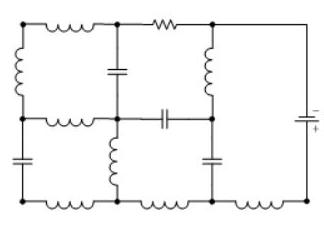inductor: (38, 108, 101, 139), (195, 42, 223, 104), (226, 189, 290, 215), (100, 128, 125, 186), (38, 14, 102, 36), (130, 192, 198, 211), (8, 42, 30, 96), (36, 194, 99, 212)
